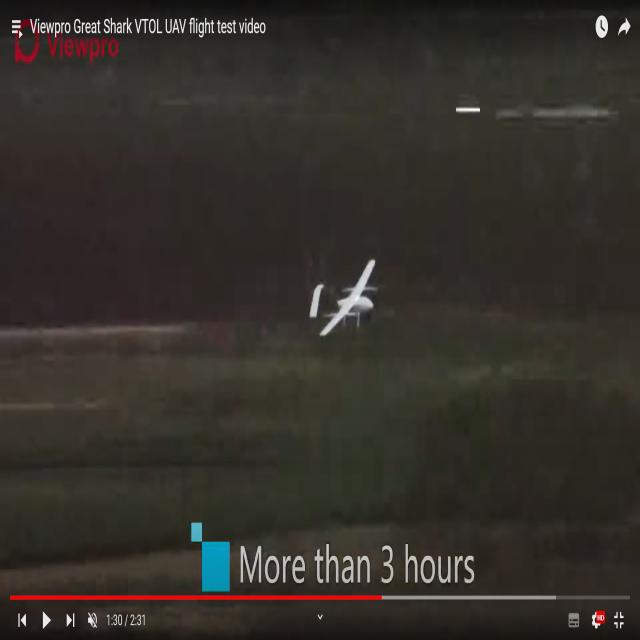iha: (341, 290, 346, 304)
